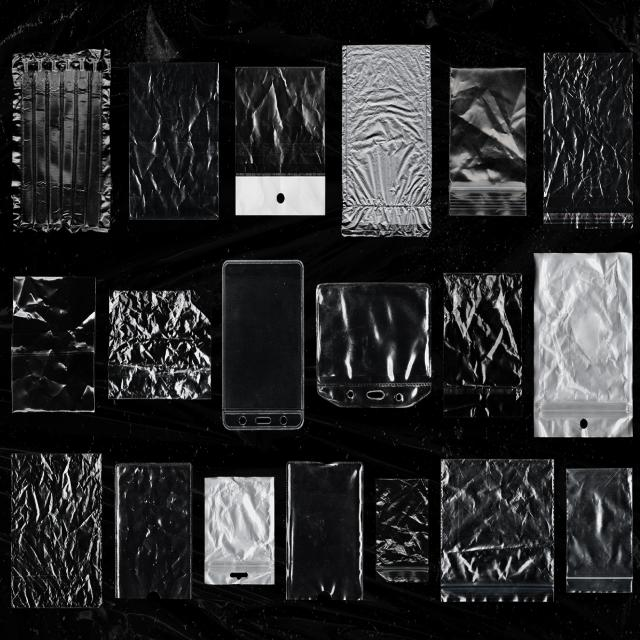Single-layer Plastic: (11, 49, 111, 232), (534, 252, 632, 437), (341, 44, 431, 235), (441, 460, 554, 601), (544, 53, 632, 227), (316, 283, 431, 407), (129, 63, 219, 218), (222, 260, 304, 430), (11, 453, 101, 607), (235, 68, 325, 216), (11, 277, 95, 412), (449, 68, 526, 215), (444, 273, 522, 417), (109, 290, 211, 399), (286, 461, 364, 600), (115, 463, 191, 599), (566, 468, 632, 593), (205, 476, 275, 585), (376, 479, 429, 582)
